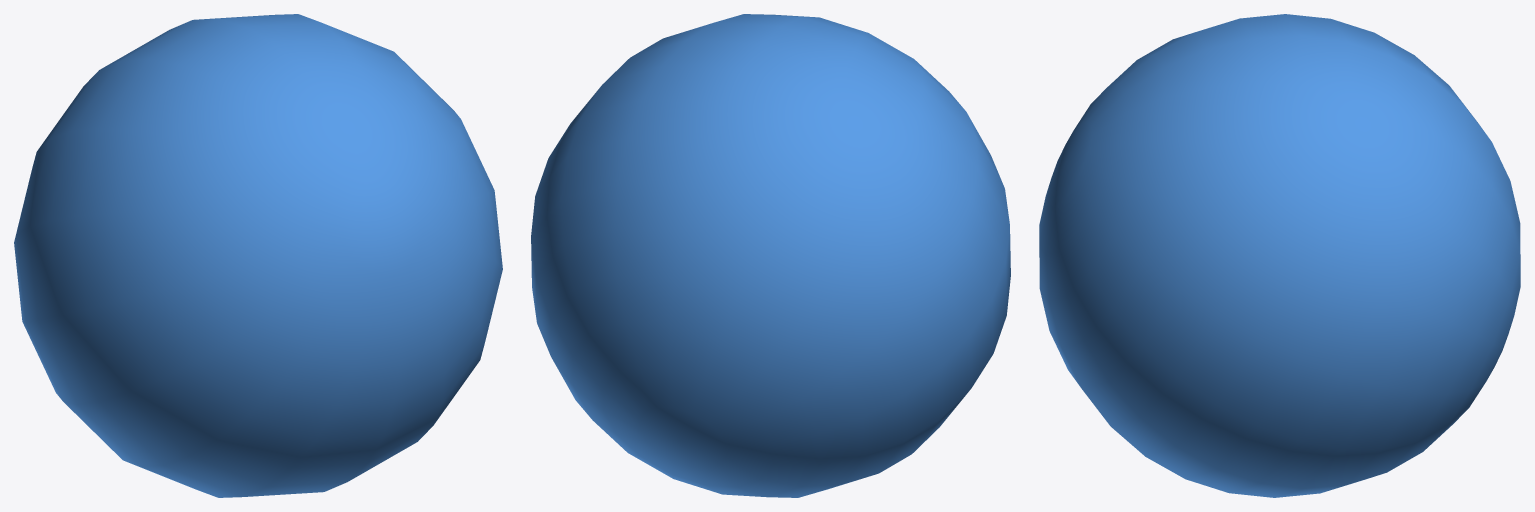
The picture shows the model from 3 angles, left to right: view 1: azimuth 30°, elevation 25°; view 2: azimuth 150°, elevation 25°; view 3: azimuth 270°, elevation 25°; orthographic projection.
Parts seen in each view (by area): view 1: orb8.010; view 2: orb8.010; view 3: orb8.010.
Boxes of the visible parts, x1,y1,x2,y2 form: orb8.010: (14, 14, 502, 497); orb8.010: (531, 14, 1010, 497); orb8.010: (1039, 14, 1520, 497).
Size of the model in its own units: 0.3982 by 0.3984 by 0.3968.
